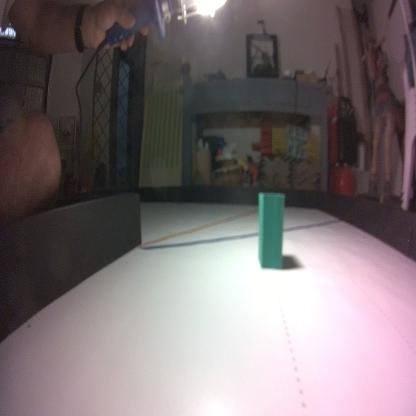green: (256, 191, 285, 267)
